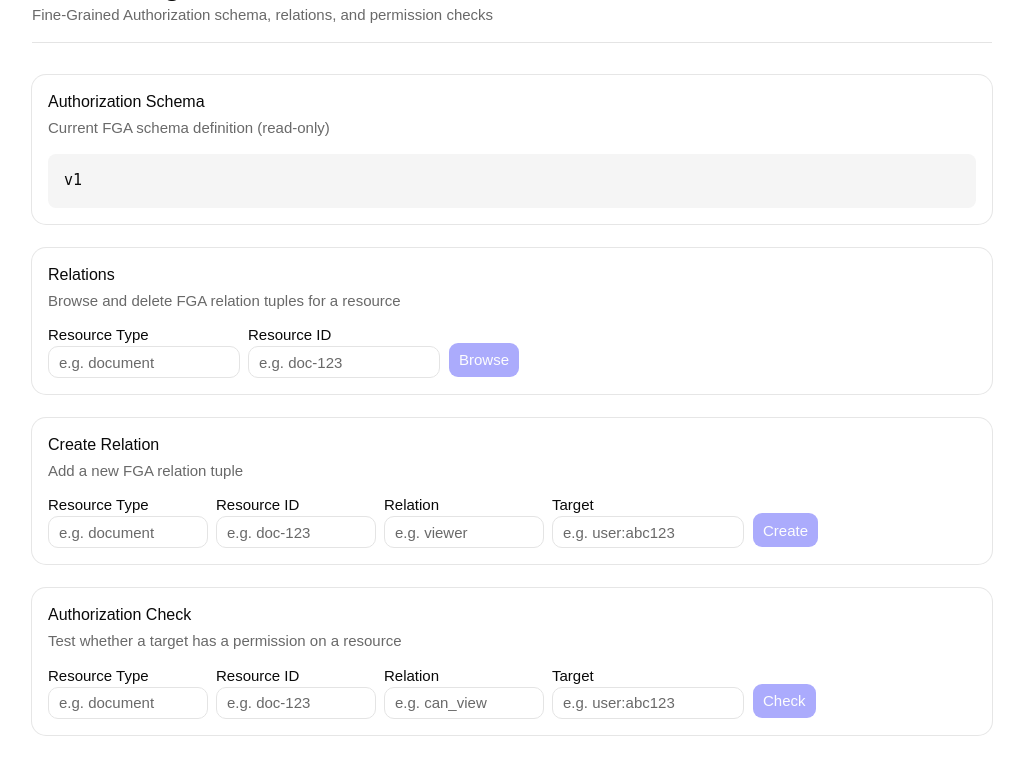
FGAManagement › admin user - authorization check › shows Denied badge when permission is denied
The image size is (1024, 767).
(page scrolled)
Check: the text "Authorization Check" is shown, box [48,606,191,623]
Type "document" into the field with id "check-resource-type".
click(128, 703); type("document")  # box [48,687,208,719]
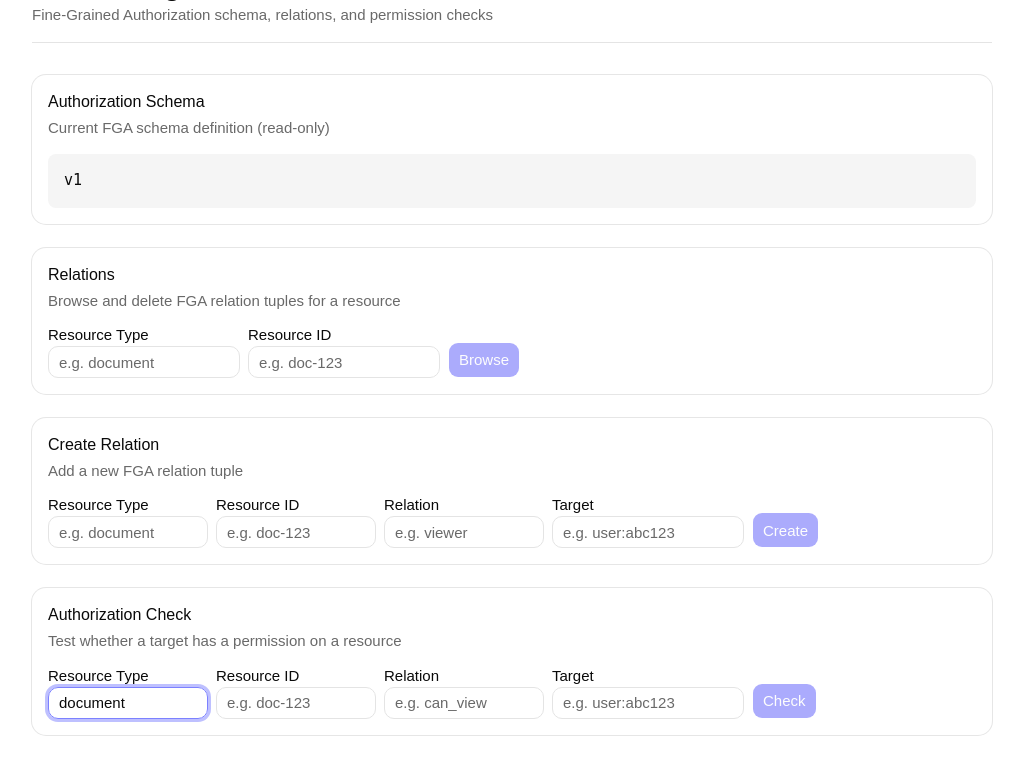
Type "doc-1" into the field with id "check-resource-id".
click(296, 703); type("doc-1")  # box [216,687,376,719]
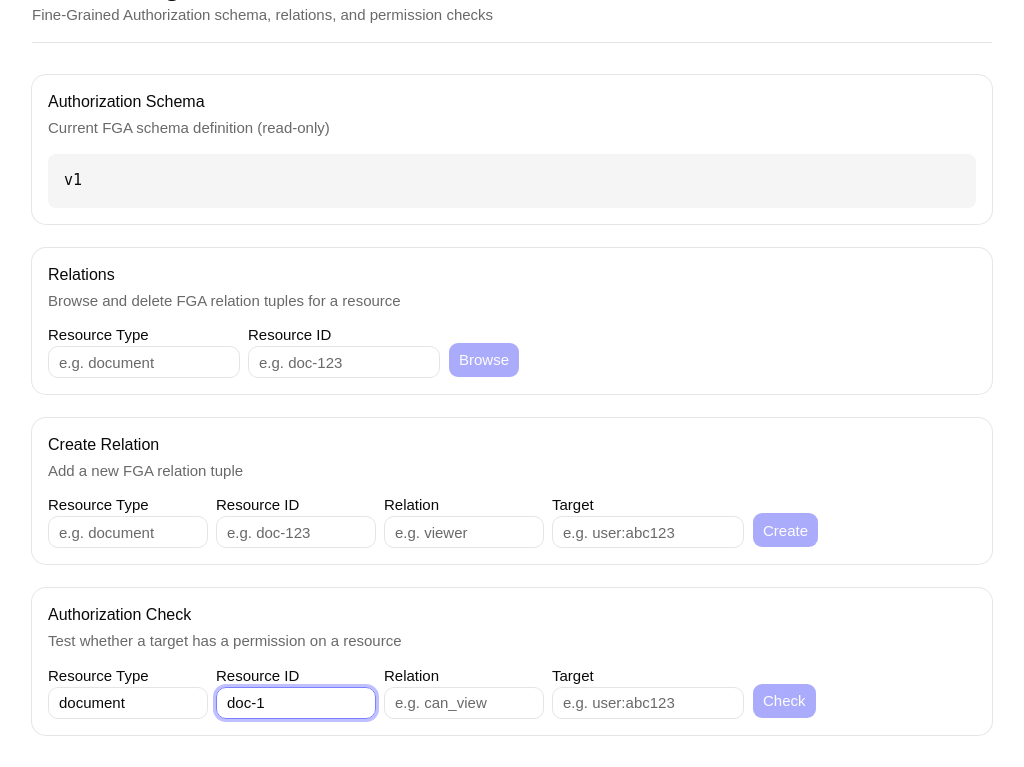
Type "can_edit" into the field with id "check-relation".
click(464, 703); type("can_edit")  # box [384,687,544,719]
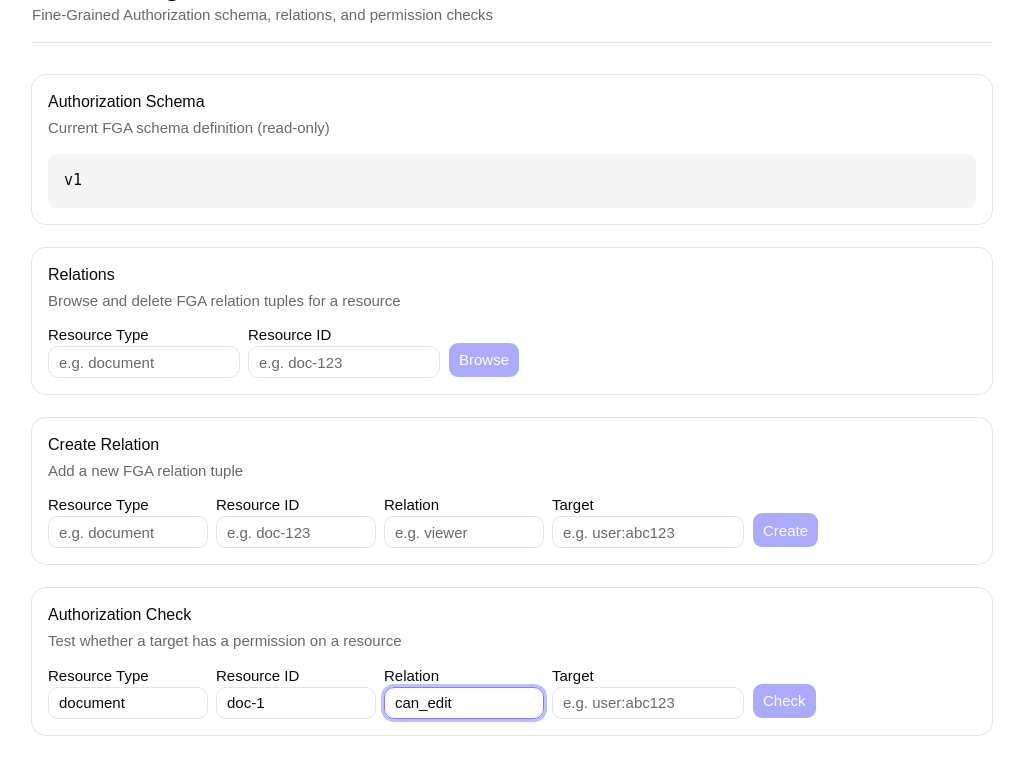
Type "user:xyz" into the field with id "check-target".
click(648, 703); type("user:xyz")  # box [552,687,744,719]
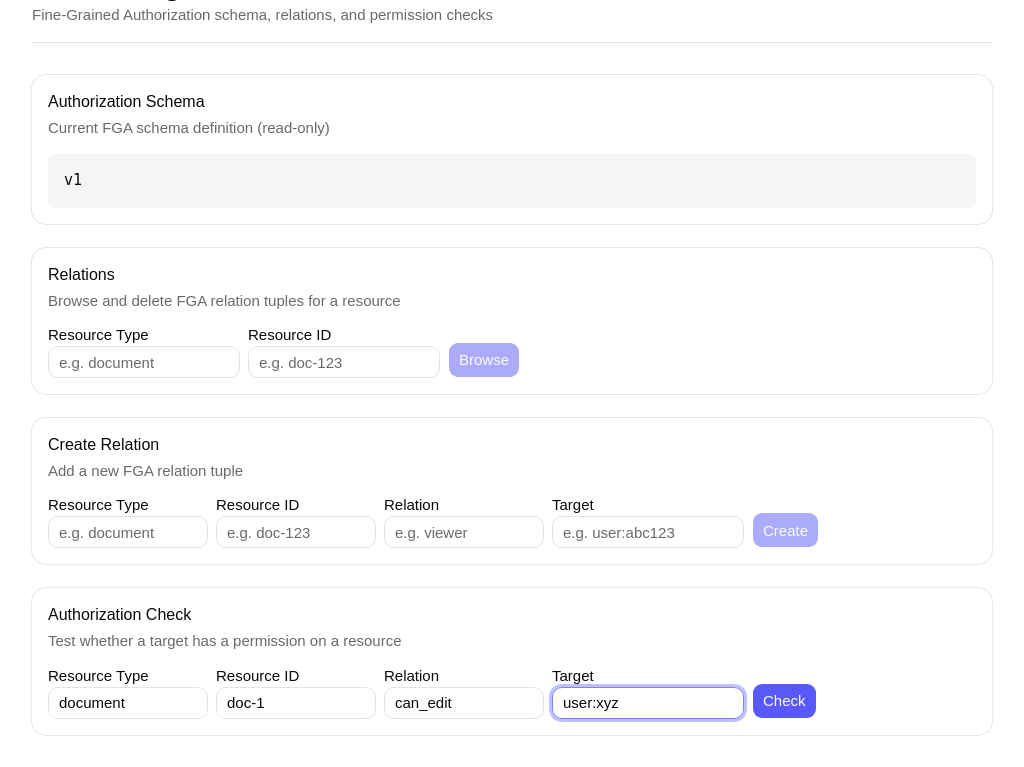
Click the button "Check".
click(784, 701)  # box [752,683,816,719]
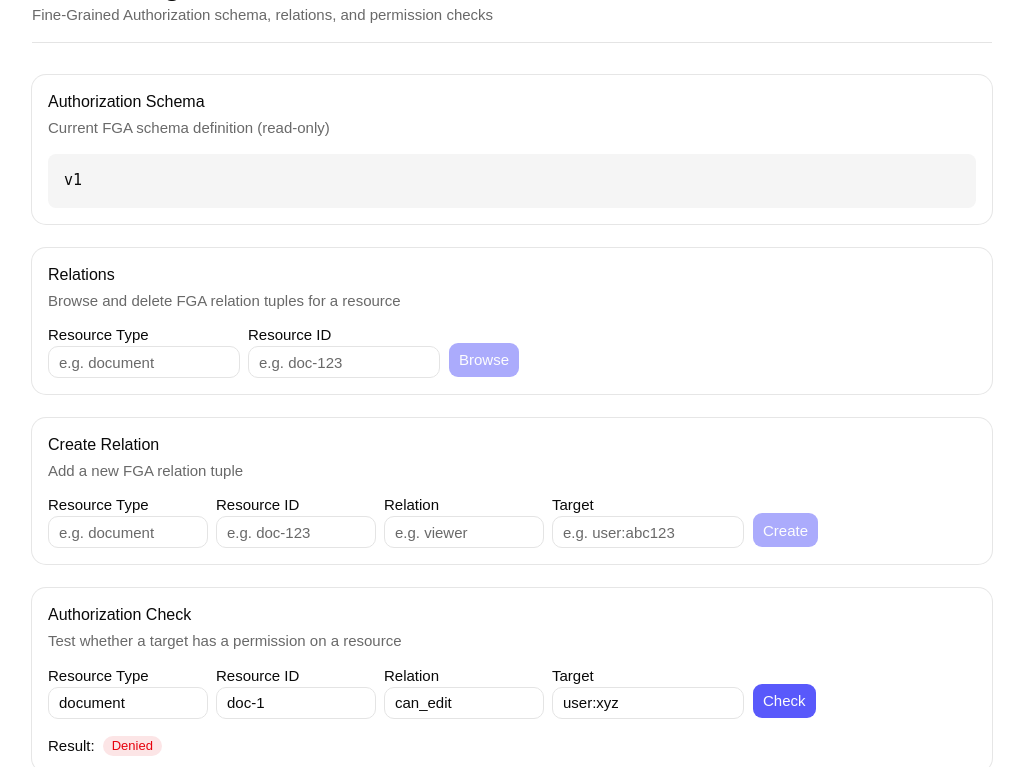
Check: the icon "Denied" is shown, box [103,736,162,756]
